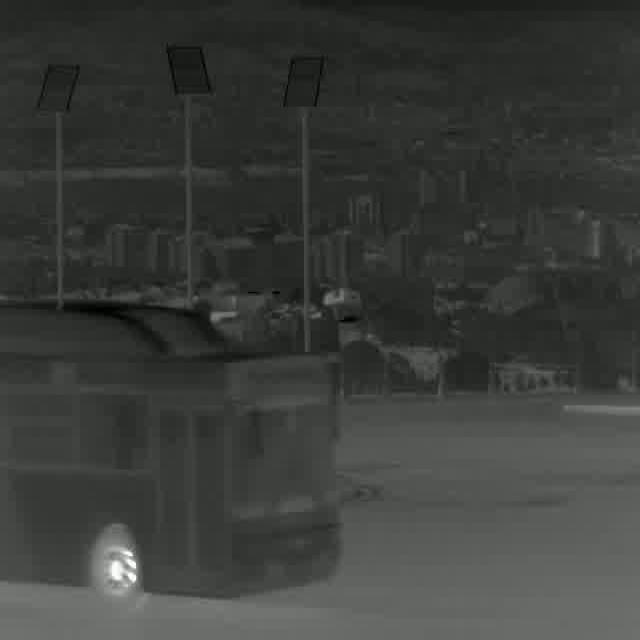Bus: (0, 305, 337, 606)
